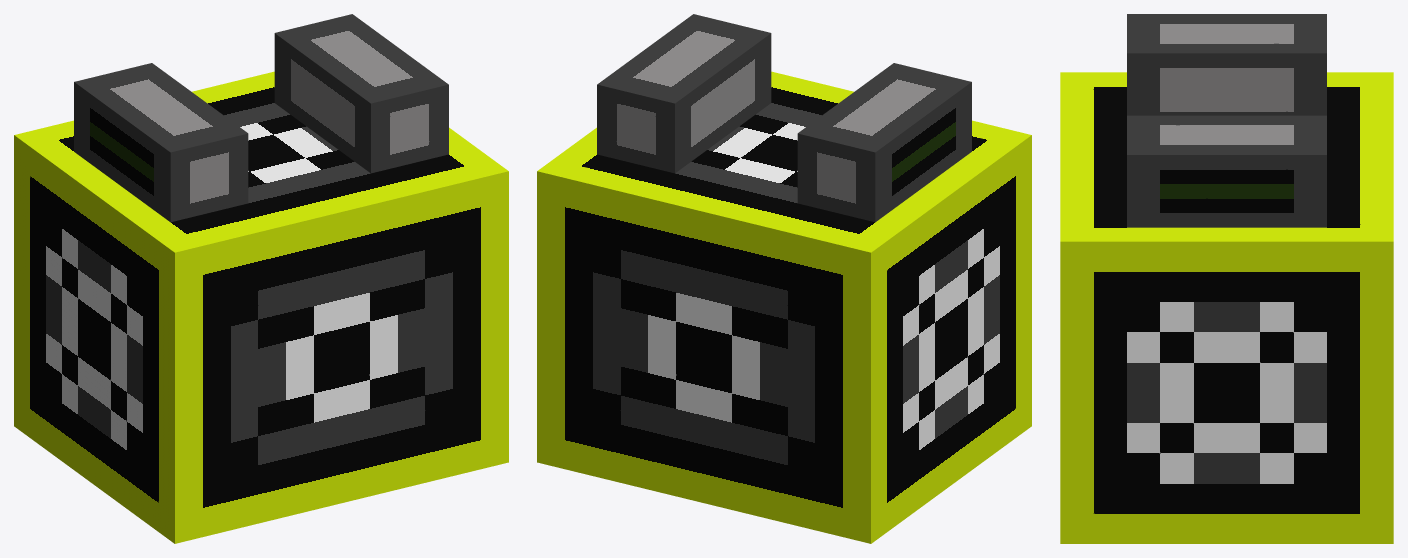
The model's file is battery.gltf.
3 views of the same model, side by side, from view 1: azimuth 30°, elevation 25°; view 2: azimuth 150°, elevation 25°; view 3: azimuth 270°, elevation 25° (orthographic). The views are drawn at different scales.
Visible parts, largest first — view 1: battery base, mesh (×2); view 2: battery base, mesh (×2); view 3: battery base, mesh (×2).
Part boxes in pixels (bbox=[...]): battery base: bbox=[14, 71, 508, 543]; mesh (×2): bbox=[74, 14, 448, 222]; battery base: bbox=[537, 71, 1031, 543]; mesh (×2): bbox=[597, 14, 971, 222]; battery base: bbox=[1060, 72, 1393, 543]; mesh (×2): bbox=[1127, 14, 1326, 227].
Bounding box in the file's own units: 0.375 × 0.3875 × 0.3125.
Materials: 2 (2 with a texture image).
